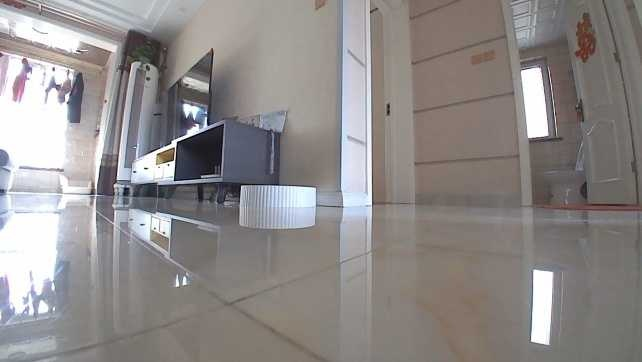TV_stand: (128, 115, 280, 206)
door_anno: (562, 0, 641, 205)
toilet: (541, 136, 585, 207)
